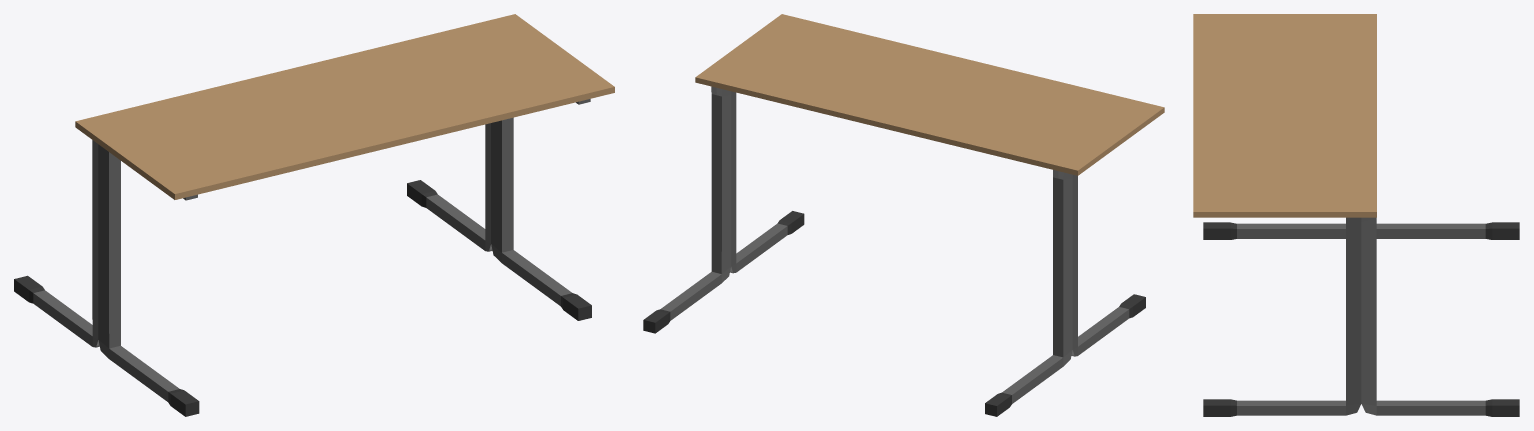
Rendered from stol_3.fbx.
3 renders of one model, left to right at view 1: azimuth 30°, elevation 25°; view 2: azimuth 150°, elevation 25°; view 3: azimuth 270°, elevation 25°, orthographic. The views are drawn at different scales.
Visible parts, largest first — view 1: stol_3; view 2: stol_3; view 3: stol_3.
Part boxes in pixels (x1=…): stol_3: x1=14, y1=14, x2=614, y2=416; stol_3: x1=643, y1=14, x2=1164, y2=416; stol_3: x1=1193, y1=14, x2=1519, y2=416.
Size of the model in its own units: 208 by 104 by 145.
